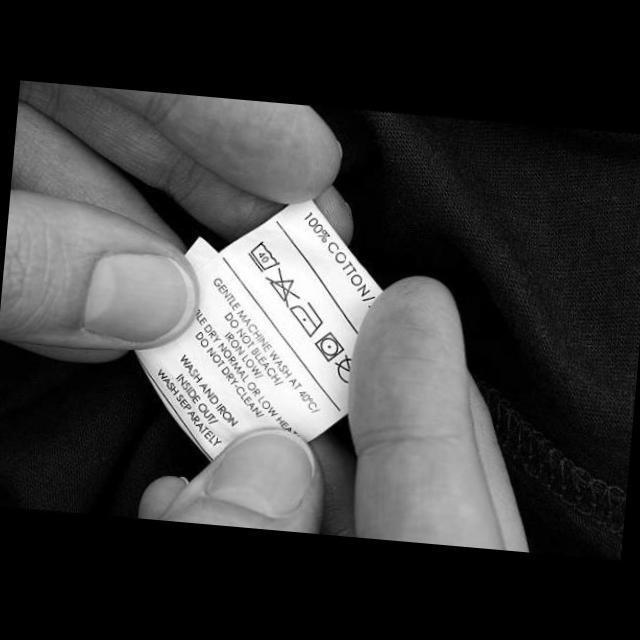40C: (244, 238, 284, 278)
DN_bleach: (260, 265, 304, 310)
DN_dry_clean: (332, 354, 352, 384)
iron_low: (284, 298, 326, 340)
tumble_dry_low: (310, 329, 346, 365)
